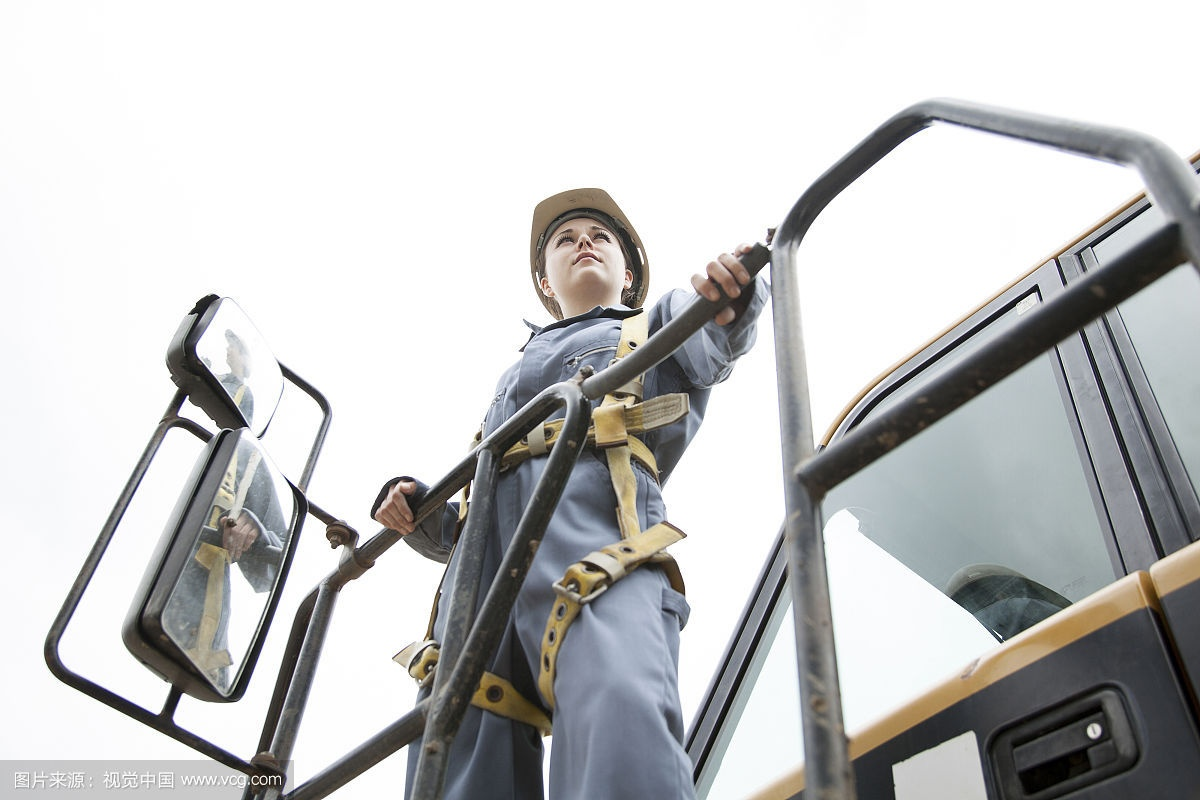white: (526, 186, 654, 318)
